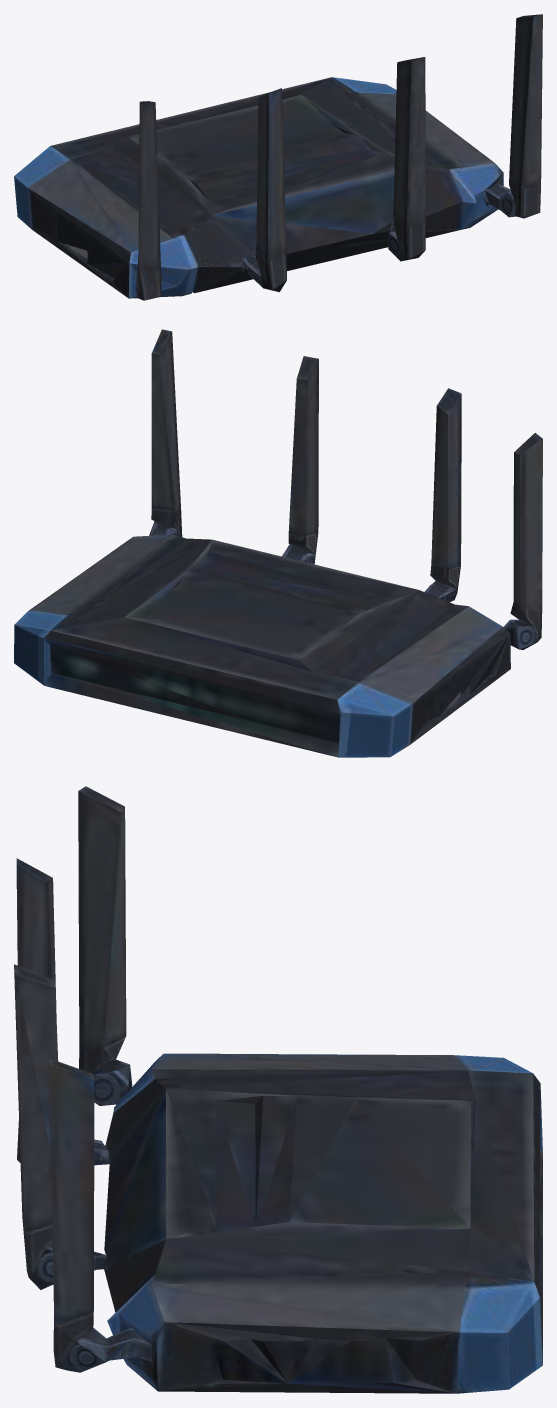
The model's file is roteador.glb.
3 renders of one model, top to bottom at view 1: azimuth 30°, elevation 25°; view 2: azimuth 150°, elevation 25°; view 3: azimuth 270°, elevation 25°, orthographic. The views are drawn at different scales.
Parts seen in each view (by area): view 1: Mesh_0; view 2: Mesh_0; view 3: Mesh_0.
Boxes of the visible parts, <box> form: Mesh_0: <box>14,14,542,300</box>; Mesh_0: <box>14,329,542,757</box>; Mesh_0: <box>14,786,542,1393</box>.
Bounding box in the file's own units: 0.4599 × 0.25 × 0.3575.
1 material, 1 textured.
